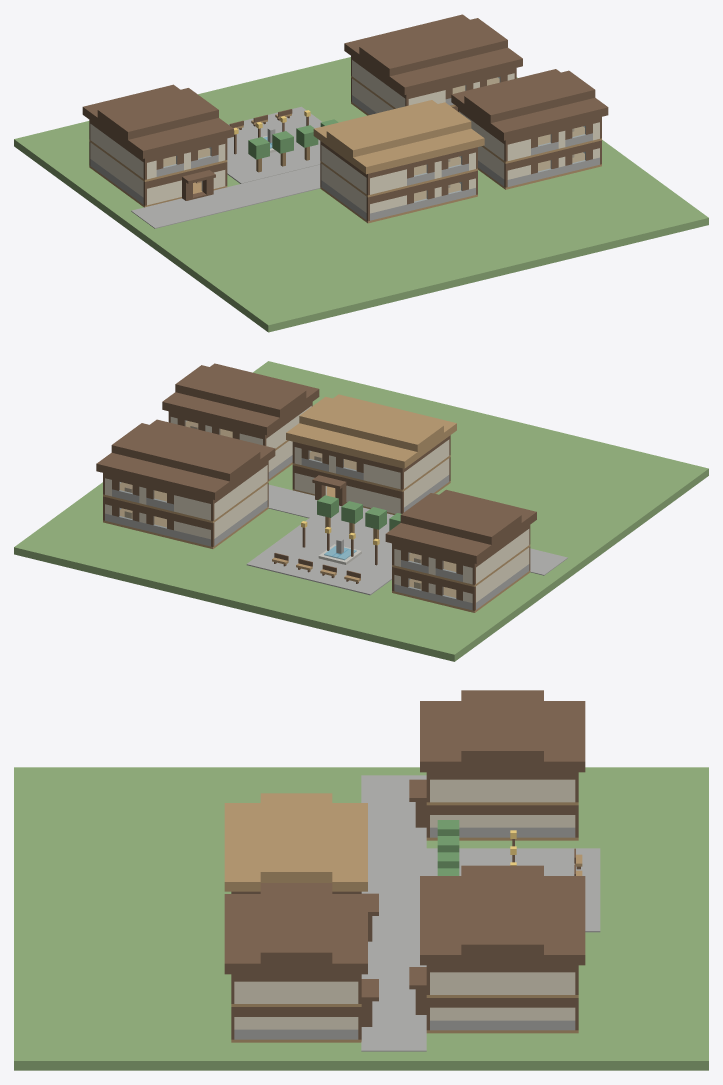
3 views of the same model, one above another, from view 1: azimuth 30°, elevation 25°; view 2: azimuth 150°, elevation 25°; view 3: azimuth 270°, elevation 25° (orthographic). The views are drawn at different scales.
Visible parts, largest first — view 1: part_0019, part_0012, part_0026, part_0028, part_0381, part_0251, part_0380, part_0129, part_0552, part_0250, part_0475, part_0551 (+28 smaller); view 2: part_0019, part_0020, part_0026, part_0013, part_0475, part_0028, part_0381, part_0380, part_0251, part_0129, part_0552, part_0250 (+27 smaller); view 3: part_0019, part_0068, part_0020, part_0012, part_0026, part_0380, part_0381, part_0013, part_0551, part_0128, part_0250, part_0001 (+49 smaller).
Part boxes in pixels (left/top/right/bottom): part_0019: left=234, top=188, right=503, bottom=309; part_0012: left=452, top=170, right=613, bottom=268; part_0026: left=155, top=216, right=332, bottom=328; part_0028: left=14, top=136, right=281, bottom=332; part_0381: left=359, top=18, right=507, bottom=76; part_0251: left=326, top=102, right=471, bottom=157; part_0380: left=344, top=14, right=522, bottom=94; part_0129: left=464, top=70, right=595, bottom=122; part_0552: left=97, top=88, right=218, bottom=139; part_0250: left=313, top=100, right=484, bottom=174; part_0475: left=227, top=106, right=321, bottom=183; part_0551: left=82, top=84, right=233, bottom=158; part_0019: left=436, top=411, right=616, bottom=509; part_0020: left=219, top=568, right=409, bottom=639; part_0026: left=530, top=453, right=694, bottom=557; part_0013: left=109, top=508, right=294, bottom=597; part_0475: left=246, top=517, right=391, bottom=595; part_0028: left=441, top=465, right=708, bottom=661; part_0381: left=111, top=423, right=260, bottom=481; part_0380: left=96, top=419, right=275, bottom=499; part_0251: left=299, top=396, right=443, bottom=451; part_0129: left=175, top=365, right=306, bottom=417; part_0552: left=400, top=493, right=521, bottom=544; part_0250: left=286, top=394, right=456, bottom=468; part_0019: left=14, top=828, right=231, bottom=923; part_0068: left=14, top=1051, right=708, bottom=1070; part_0020: left=426, top=828, right=708, bottom=923; part_0012: left=14, top=942, right=231, bottom=997; part_0026: left=14, top=776, right=361, bottom=810; part_0380: left=420, top=876, right=585, bottom=965; part_0381: left=461, top=865, right=543, bottom=954; part_0013: left=578, top=942, right=708, bottom=997; part_0551: left=420, top=701, right=585, bottom=772; part_0128: left=224, top=894, right=367, bottom=974; part_0250: left=224, top=803, right=367, bottom=891; part_0001: left=14, top=1028, right=361, bottom=1051.
Bounding box in the file's own units: 64 × 10.4 × 64.
